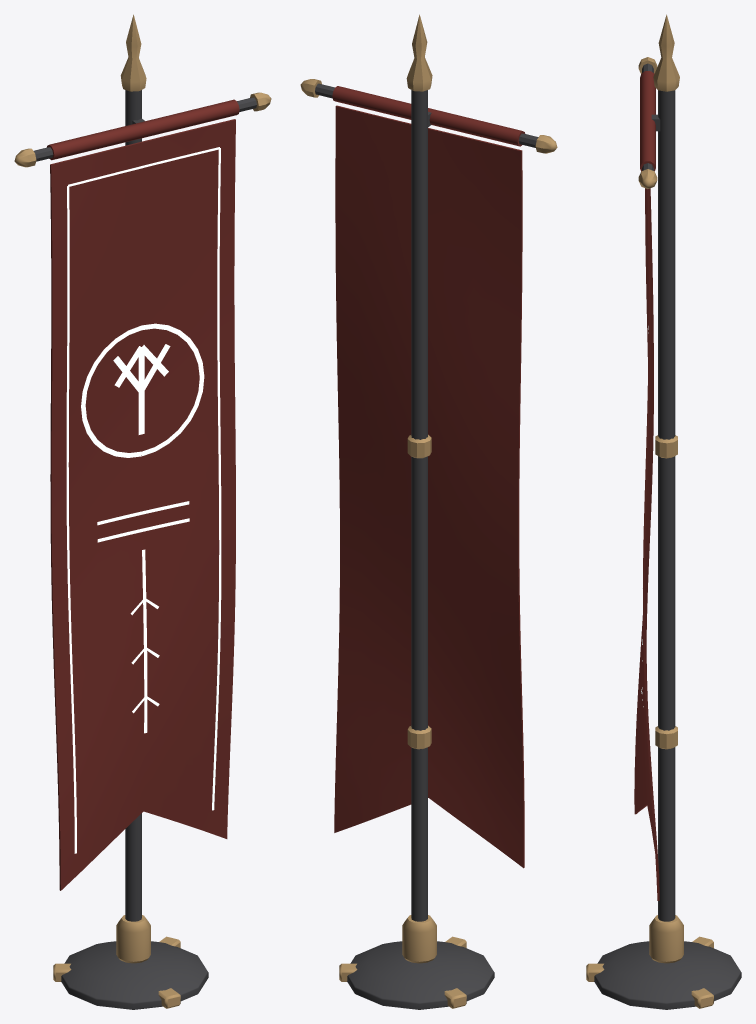
The model's file is kit_rune_banner.glb.
3 views of the same model, side by side, from view 1: azimuth 30°, elevation 25°; view 2: azimuth 150°, elevation 25°; view 3: azimuth 270°, elevation 25° (orthographic).
Visible parts, largest first — view 1: kit_rune_banner_cloth, kit_rune_banner_metal, kit_rune_banner_glow, kit_rune_banner_bronze_metal; view 2: kit_rune_banner_cloth, kit_rune_banner_metal, kit_rune_banner_bronze_metal; view 3: kit_rune_banner_metal, kit_rune_banner_cloth, kit_rune_banner_bronze_metal.
Boxes of the visible parts, bbox=[...] form: kit_rune_banner_cloth: bbox=[47, 99, 239, 890]; kit_rune_banner_metal: bbox=[33, 90, 256, 1009]; kit_rune_banner_glow: bbox=[66, 147, 221, 853]; kit_rune_banner_bronze_metal: bbox=[14, 14, 271, 1008]; kit_rune_banner_cloth: bbox=[332, 86, 525, 868]; kit_rune_banner_metal: bbox=[315, 83, 538, 1009]; kit_rune_banner_bronze_metal: bbox=[300, 14, 557, 1008]; kit_rune_banner_metal: bbox=[594, 63, 741, 1009]; kit_rune_banner_cloth: bbox=[634, 71, 659, 900]; kit_rune_banner_bronze_metal: bbox=[586, 14, 713, 1008].
Bounding box in the file's own units: 1.11 × 3.98 × 0.58.
